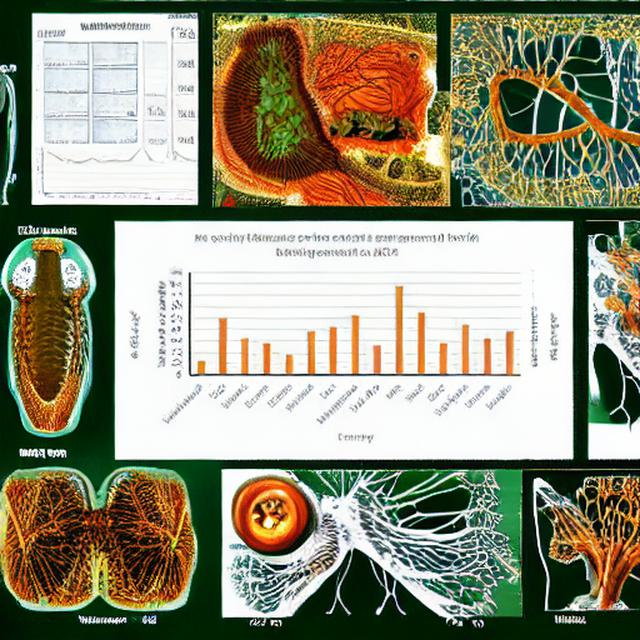Graph: (147, 226, 526, 449), (33, 139, 144, 203)
